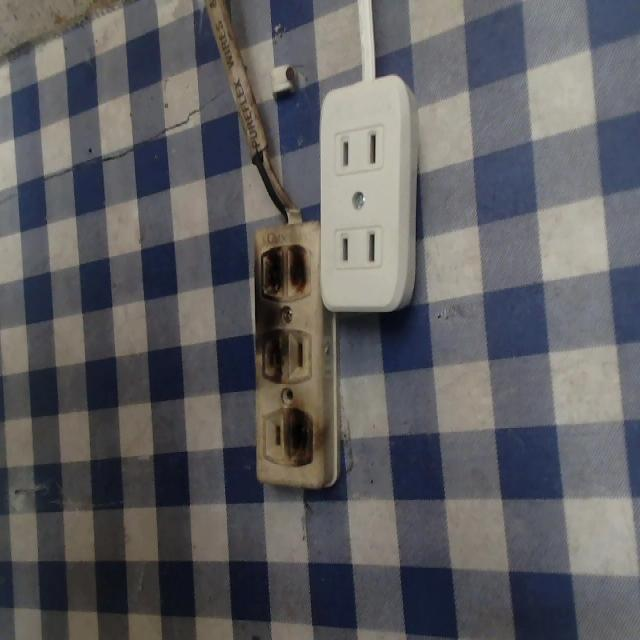-: (253, 239, 314, 304), (283, 406, 316, 474), (253, 324, 288, 385)
